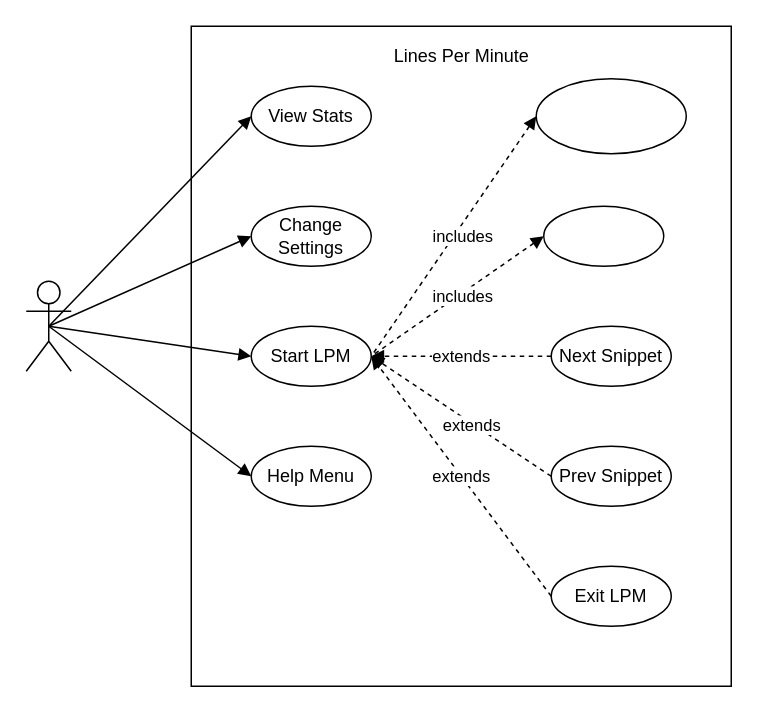
The diagram is 758 pixels wide and 713 high, and some of its shapes have lost their labels. Each missing label, with the centre of its shape:
"Pick Language(s)" belongs at [610,115].
"Start/Stop Timer" belongs at [603,235].
"User" belongs at [48,325].
